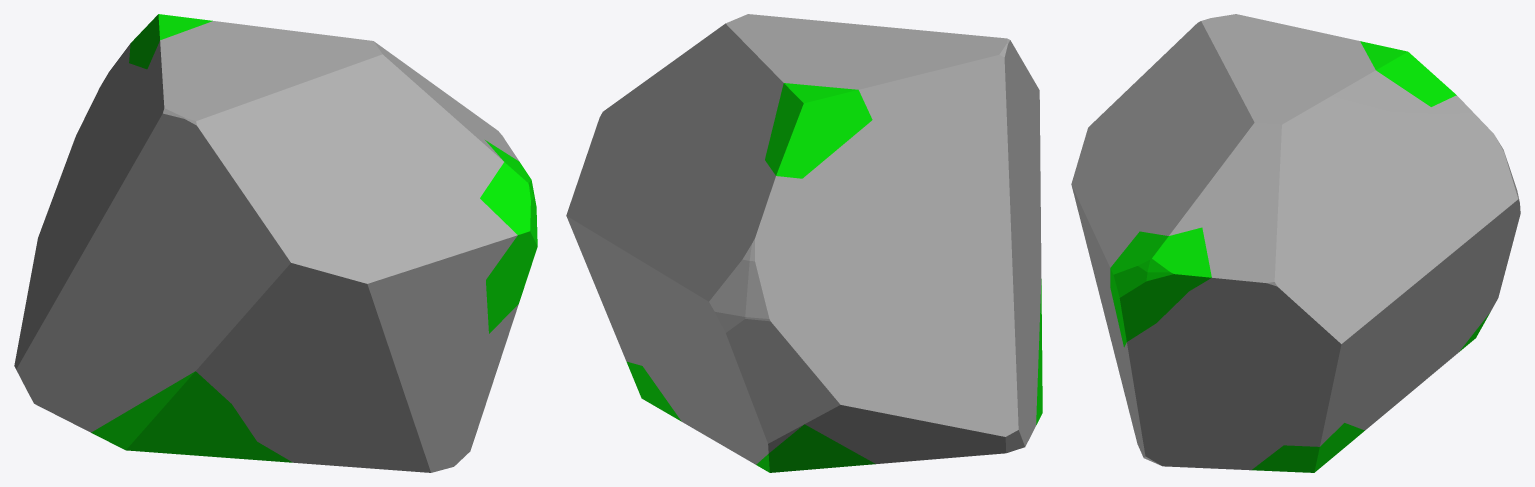
File: Moss_Rock_1.fbx
3 views of the same model, side by side, from view 1: azimuth 30°, elevation 25°; view 2: azimuth 150°, elevation 25°; view 3: azimuth 270°, elevation 25° (orthographic). The views are drawn at different scales.
Parts seen in each view (by area): view 1: Rock_Moss_1; view 2: Rock_Moss_1; view 3: Rock_Moss_1.
Boxes of the visible parts, box(x1,y1,x2,y2) form: Rock_Moss_1: box(14, 14, 537, 472); Rock_Moss_1: box(566, 14, 1042, 472); Rock_Moss_1: box(1071, 14, 1520, 472).
Bounding box in the file's own units: 201 × 166 × 198.
